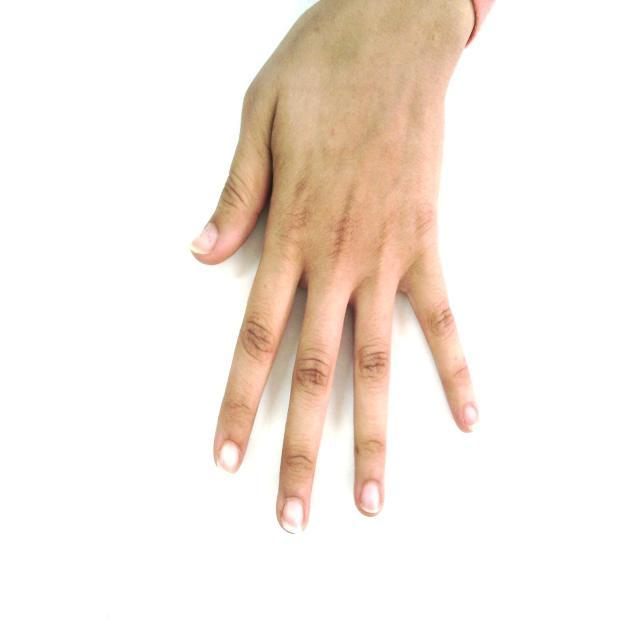Fingernail: (281, 498, 303, 533), (192, 223, 217, 252), (361, 481, 380, 512), (220, 443, 239, 472), (463, 405, 477, 427)
